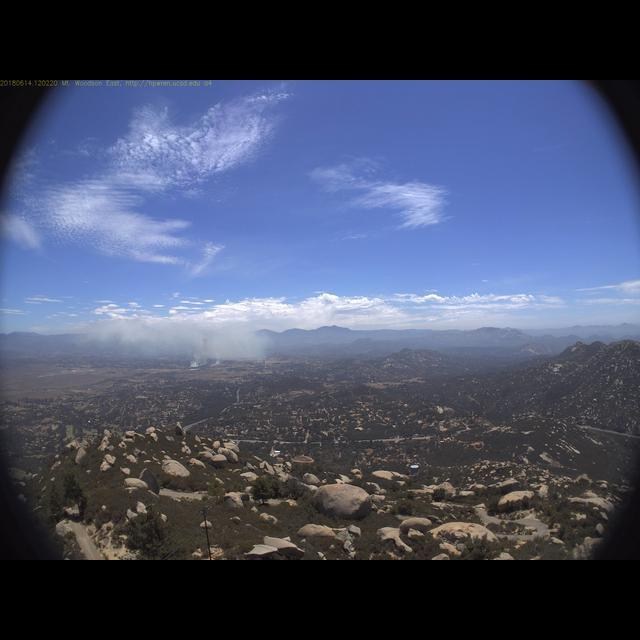Smoke: (62, 301, 271, 372)
